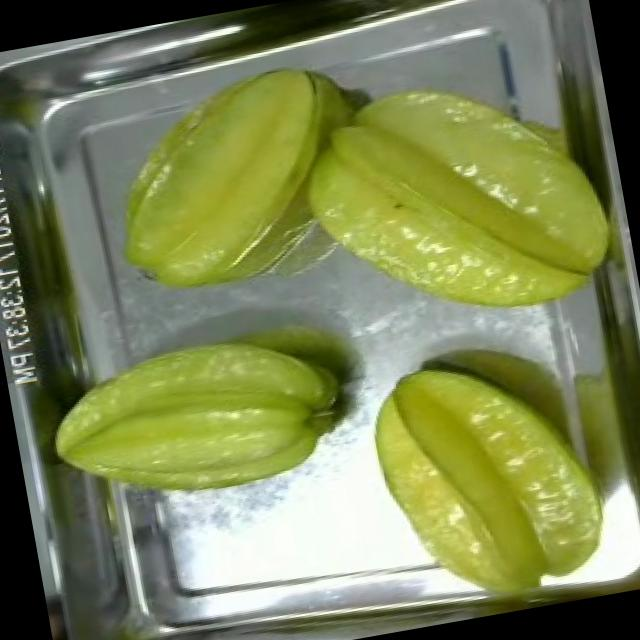fruit: (274, 41, 636, 354), (349, 330, 624, 628), (24, 300, 370, 532), (86, 51, 366, 310)
